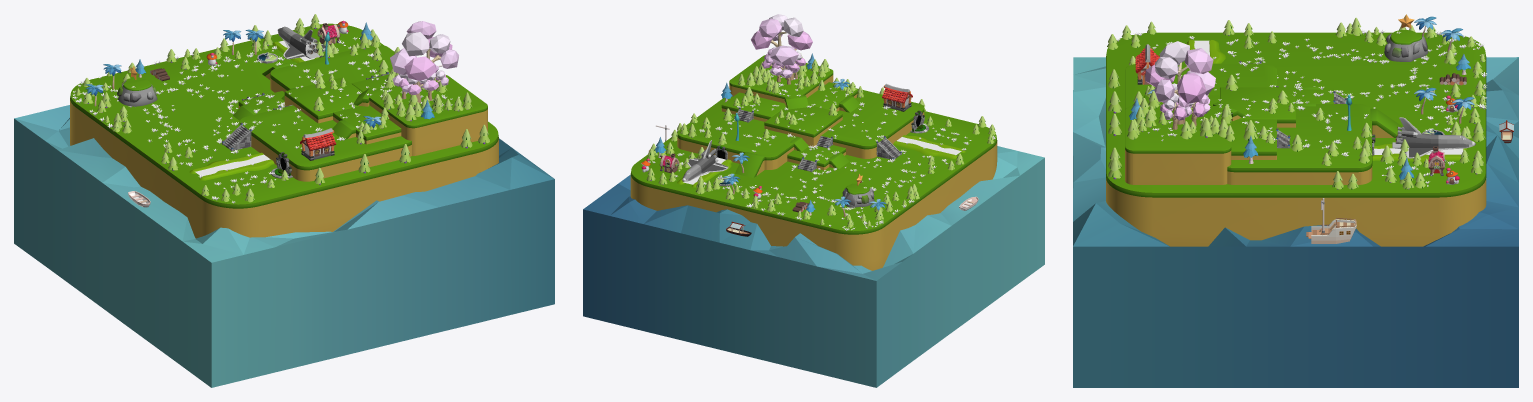
The model's file is LandMass.glb.
3 views of the same model, side by side, from view 1: azimuth 30°, elevation 25°; view 2: azimuth 150°, elevation 25°; view 3: azimuth 270°, elevation 25° (orthographic). The views are drawn at different scales.
Visible parts, largest first — view 1: water location japanes island, Ground (×7), sakura tree, LOD0 (×2), space shuttle, house_003, Stair; view 2: water location japanes island, Ground (×8), sakura tree, LOD0 (×2), space shuttle, house_003, Ramp02; view 3: water location japanes island, Ground (×7), sakura tree, LOD0 (×3), space shuttle, destroyed ship, Ramp02, sakura tree (4), house_003, house_002, sakura tree (1).
Part boxes in pixels (left/top/right/bottom): water location japanes island: left=14, top=105, right=554, bottom=387; Ground (×7): left=70, top=23, right=498, bottom=238; sakura tree: left=390, top=21, right=458, bottom=103; LOD0 (×2): left=117, top=78, right=274, bottom=180; space shuttle: left=277, top=26, right=325, bottom=59; house_003: left=300, top=128, right=335, bottom=160; Stair: left=222, top=122, right=251, bottom=151; water location japanes island: left=583, top=146, right=1044, bottom=387; Ground (×8): left=630, top=55, right=997, bottom=270; sakura tree: left=751, top=14, right=812, bottom=80; LOD0 (×2): left=842, top=135, right=965, bottom=207; space shuttle: left=682, top=140, right=728, bottom=181; house_003: left=882, top=83, right=912, bottom=111; Ramp02: left=735, top=152, right=764, bottom=177; water location japanes island: left=1073, top=57, right=1518, bottom=387; Ground (×7): left=1106, top=32, right=1486, bottom=246; sakura tree: left=1145, top=41, right=1215, bottom=124; LOD0 (×3): left=1184, top=30, right=1467, bottom=163; space shuttle: left=1392, top=117, right=1475, bottom=158; destroyed ship: left=1306, top=198, right=1356, bottom=243; Ramp02: left=1370, top=108, right=1401, bottom=137; sakura tree (4): left=1160, top=93, right=1189, bottom=129; house_003: left=1135, top=44, right=1159, bottom=84; house_002: left=1428, top=146, right=1446, bottom=175; sakura tree (1): left=1185, top=94, right=1210, bottom=125.
Size of what is drawn, in the model's own units: 119 by 85.72 by 117.
Materials: 10 (6 with a texture image).
